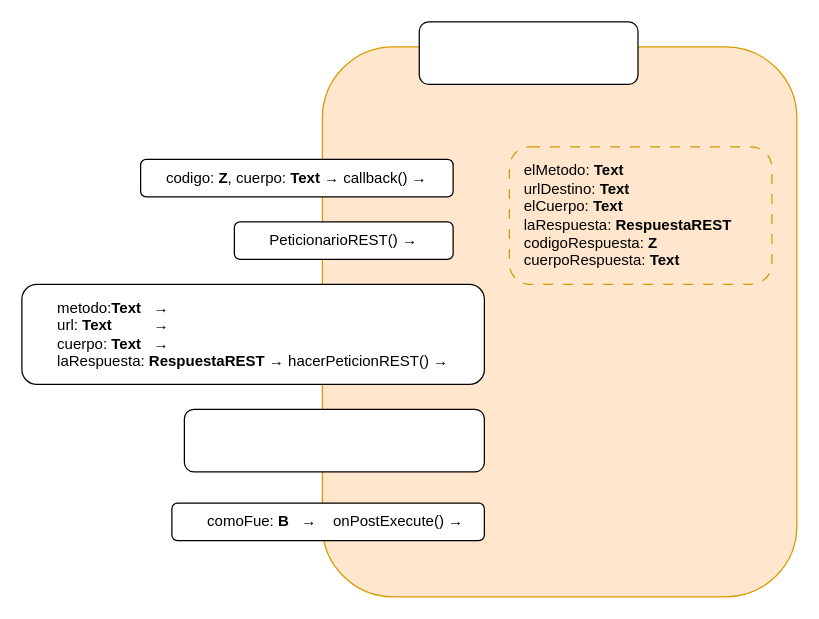
This 819x619 diagram has some shape labels left out. Each missing label, with the centre of its shape:
"PeticionarioREST" goes at pixel 528 52.
"→ doInBackground() → B ←" goes at pixel 333 440.
